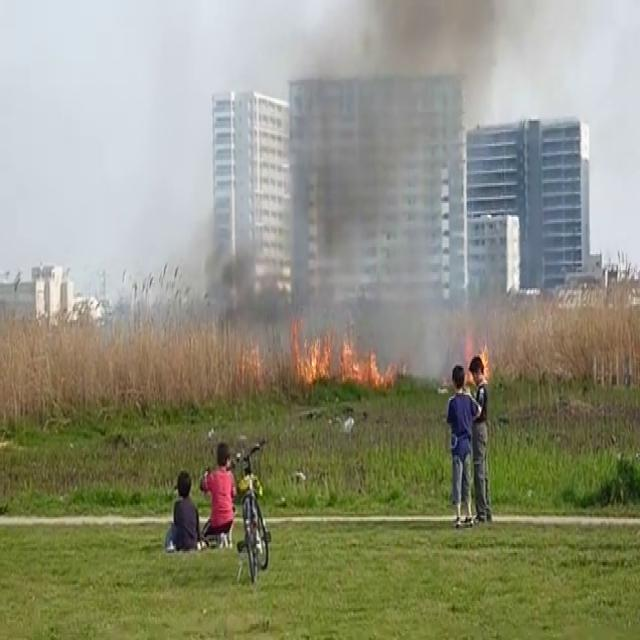Fire: (294, 327, 386, 389)
Smoke: (274, 0, 496, 373)
